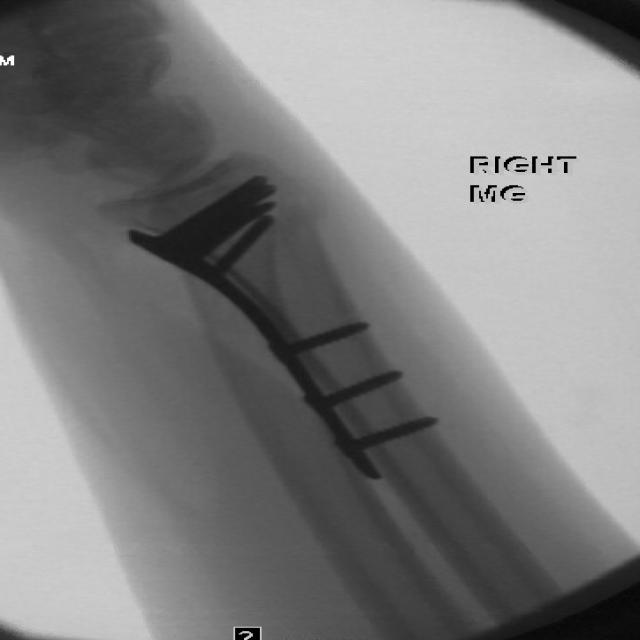x-ray: (124, 169, 442, 490)
